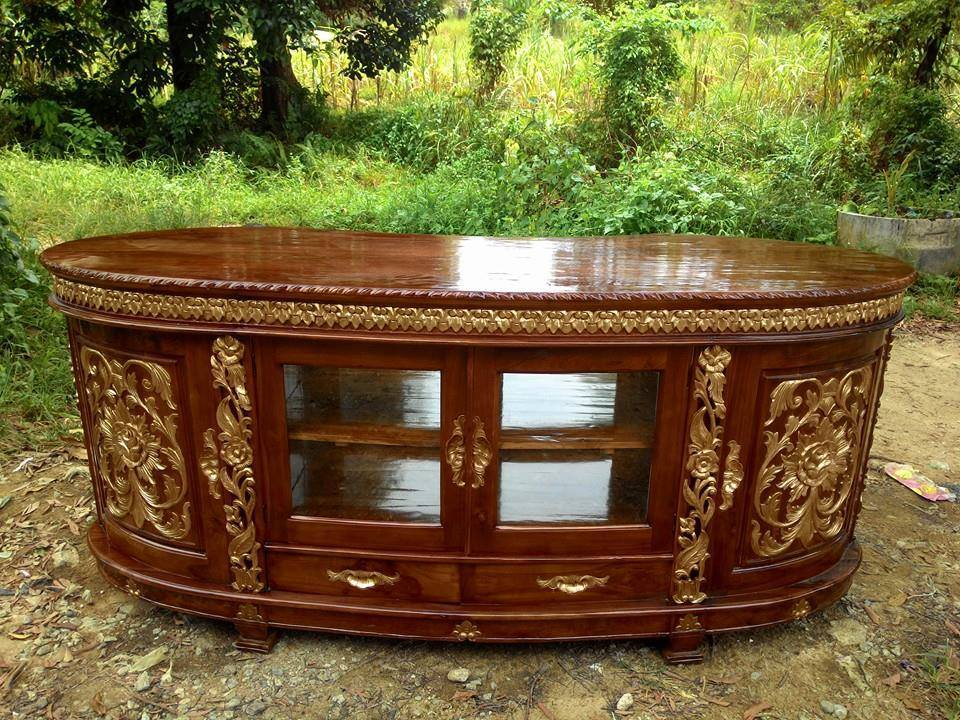Carving Table: (30, 216, 902, 674)
